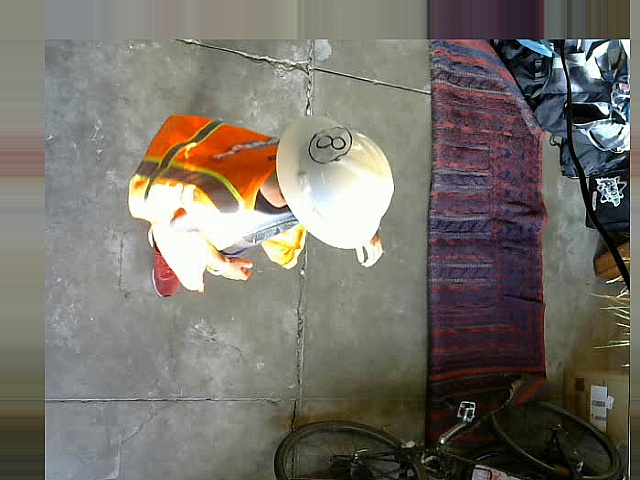eight: (308, 126, 352, 165)
